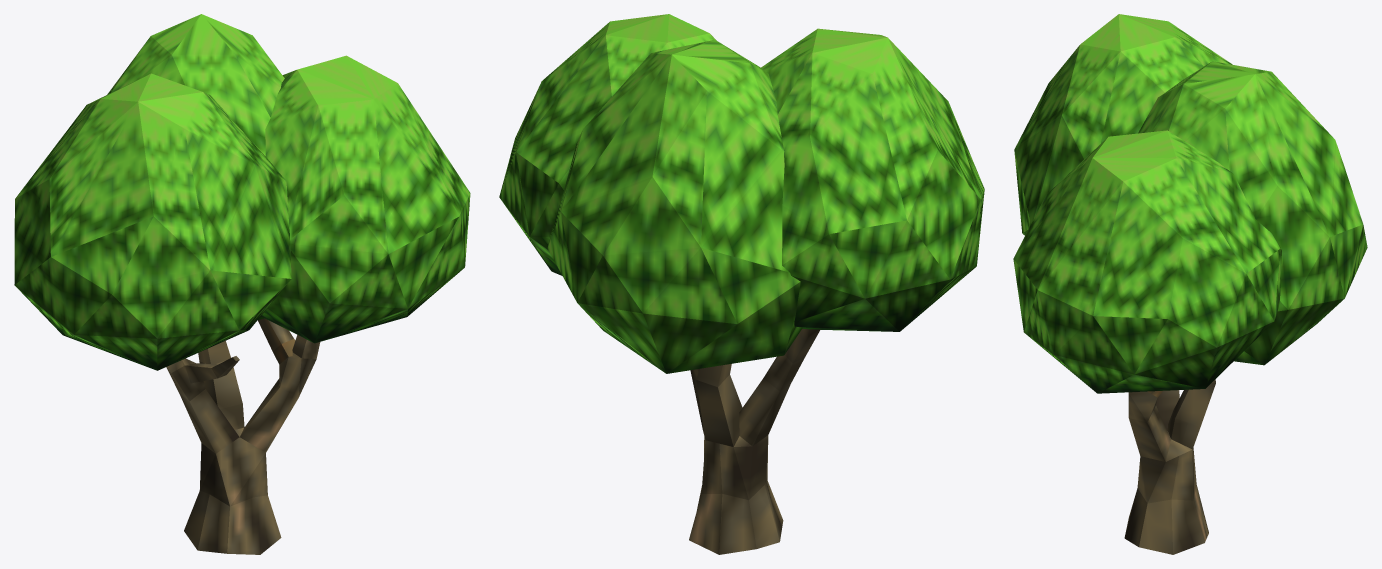
File: Poly_Tree_02_A.obj
3 views of the same model, side by side, from view 1: azimuth 30°, elevation 25°; view 2: azimuth 150°, elevation 25°; view 3: azimuth 270°, elevation 25° (orthographic). The views are drawn at different scales.
Parts seen in each view (by area): view 1: Icosphere.001, Icosphere.004, Plane, Icosphere.002; view 2: Icosphere.002, Icosphere.001, Icosphere.004, Plane; view 3: Icosphere.004, Icosphere.002, Icosphere.001, Plane.
Boxes of the visible parts, bbox=[...] form: Icosphere.001: bbox=[14, 73, 291, 370]; Icosphere.004: bbox=[261, 55, 470, 343]; Plane: bbox=[166, 318, 320, 554]; Icosphere.002: bbox=[107, 14, 284, 320]; Icosphere.002: bbox=[547, 40, 802, 373]; Icosphere.001: bbox=[761, 28, 984, 331]; Icosphere.004: bbox=[499, 14, 716, 275]; Plane: bbox=[689, 329, 820, 554]; Icosphere.004: bbox=[1013, 130, 1281, 393]; Icosphere.002: bbox=[1138, 61, 1367, 365]; Icosphere.001: bbox=[1014, 14, 1232, 235]; Plane: bbox=[1124, 379, 1215, 554].
Size of the model in its own units: 3.41 by 3.8 by 2.59.
Materials: 1 (1 with a texture image).
